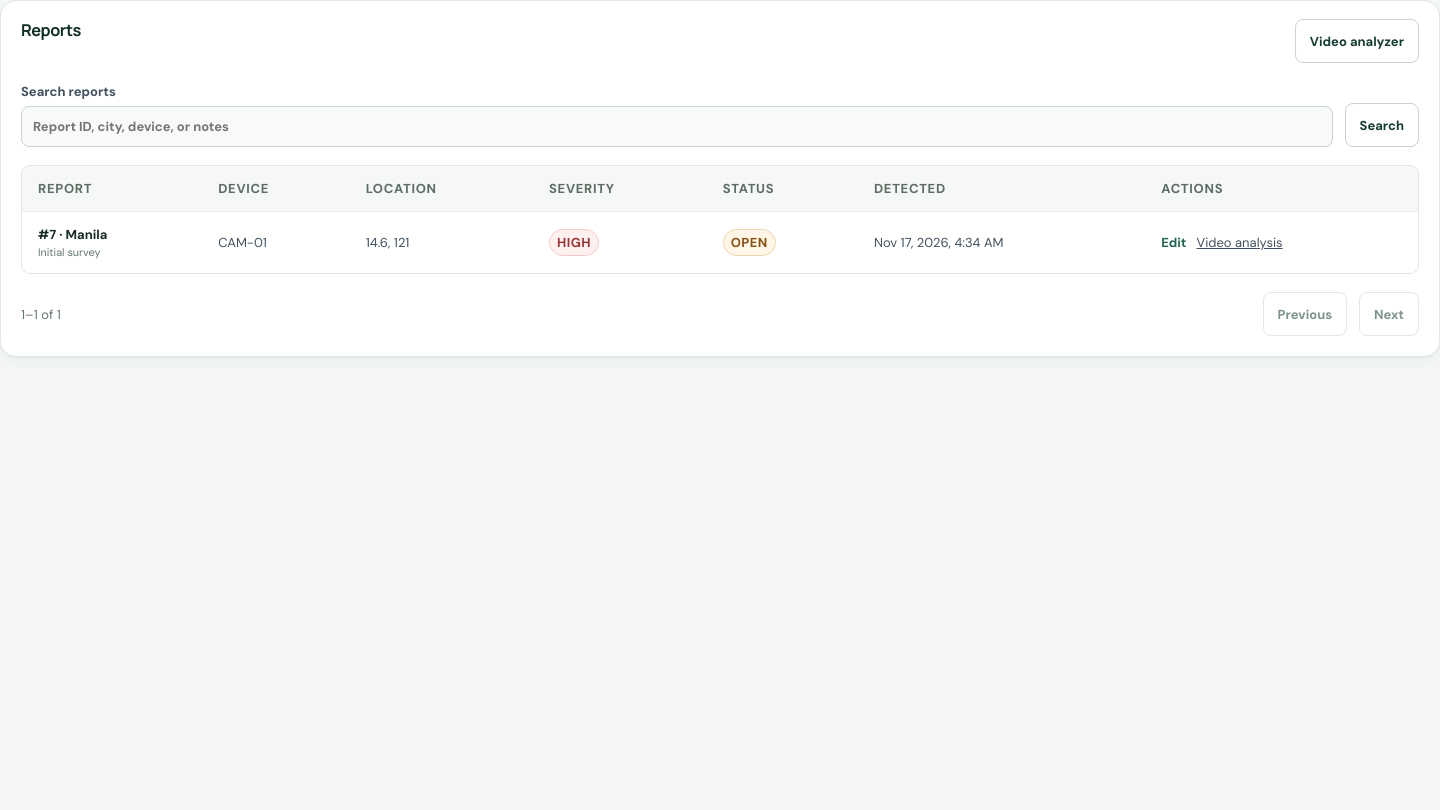
Test: report editing › cancels without writing changes
Step 1. Click the button with aria-label "Edit report #7" → (1174, 242), box left=1161, top=234, right=1186, bottom=251
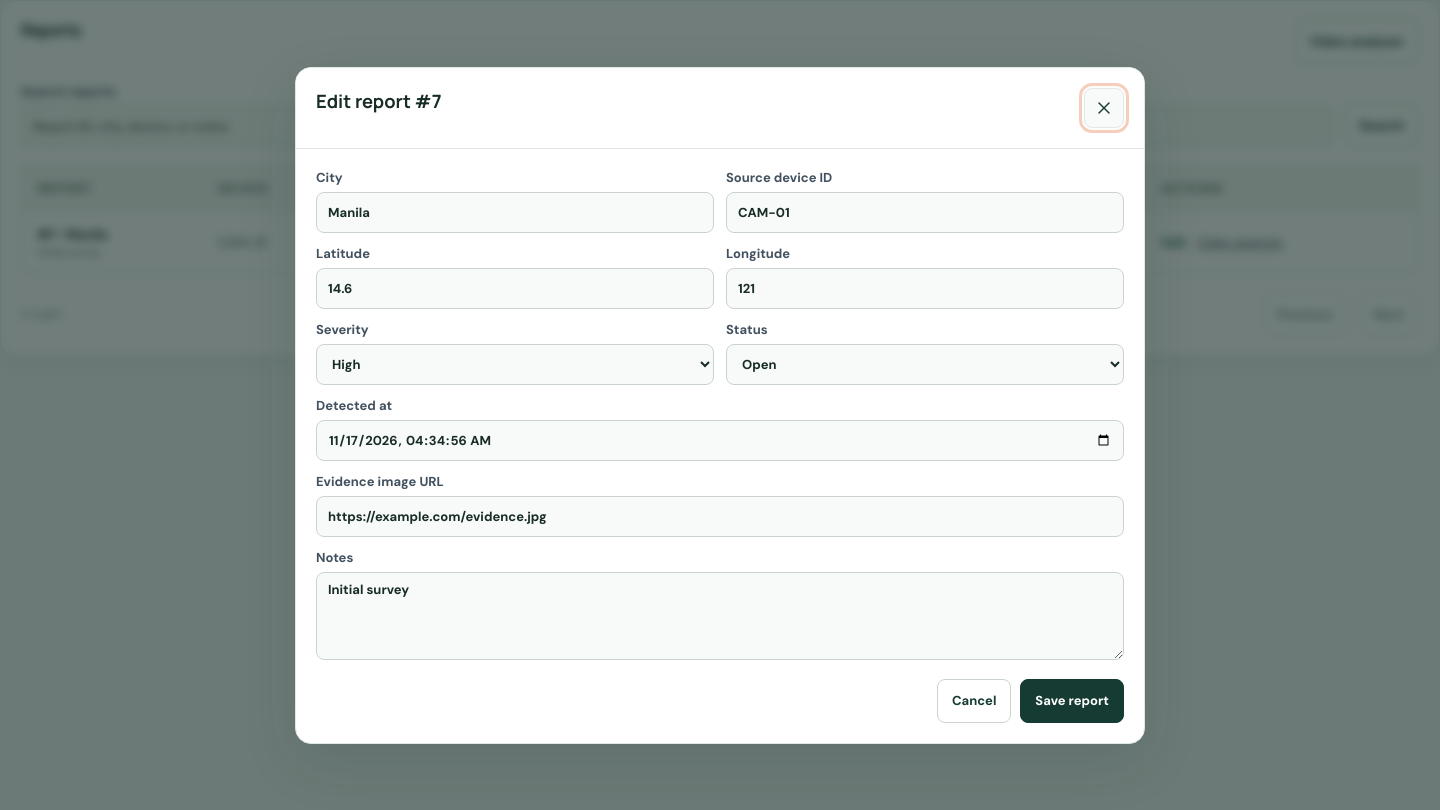
Step 2. Replace the text in the text box labelled "Notes" with "Unsaved" → (720, 616), box left=316, top=572, right=1124, bottom=660
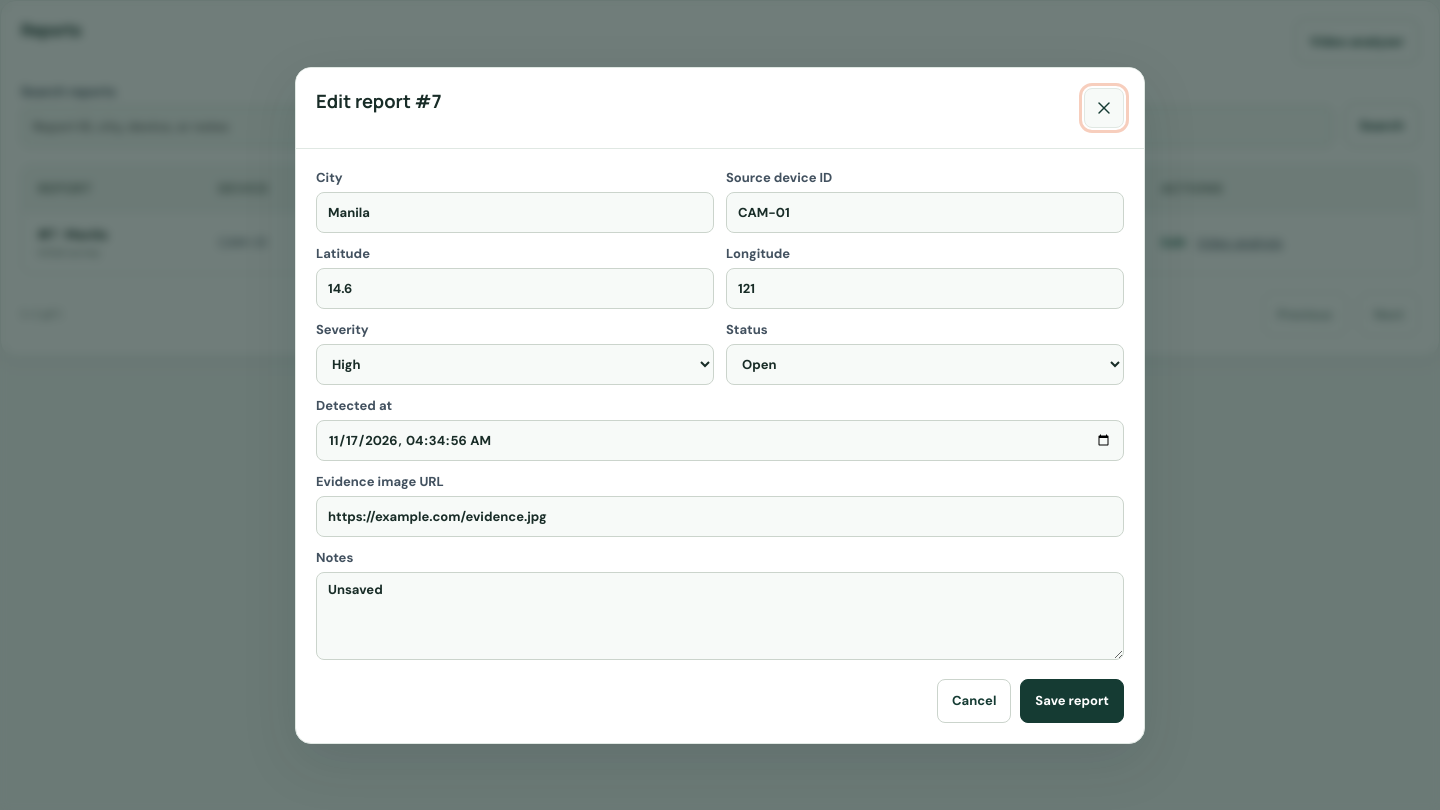
Step 3. Click the button "Cancel" → (974, 700), box left=937, top=678, right=1011, bottom=722
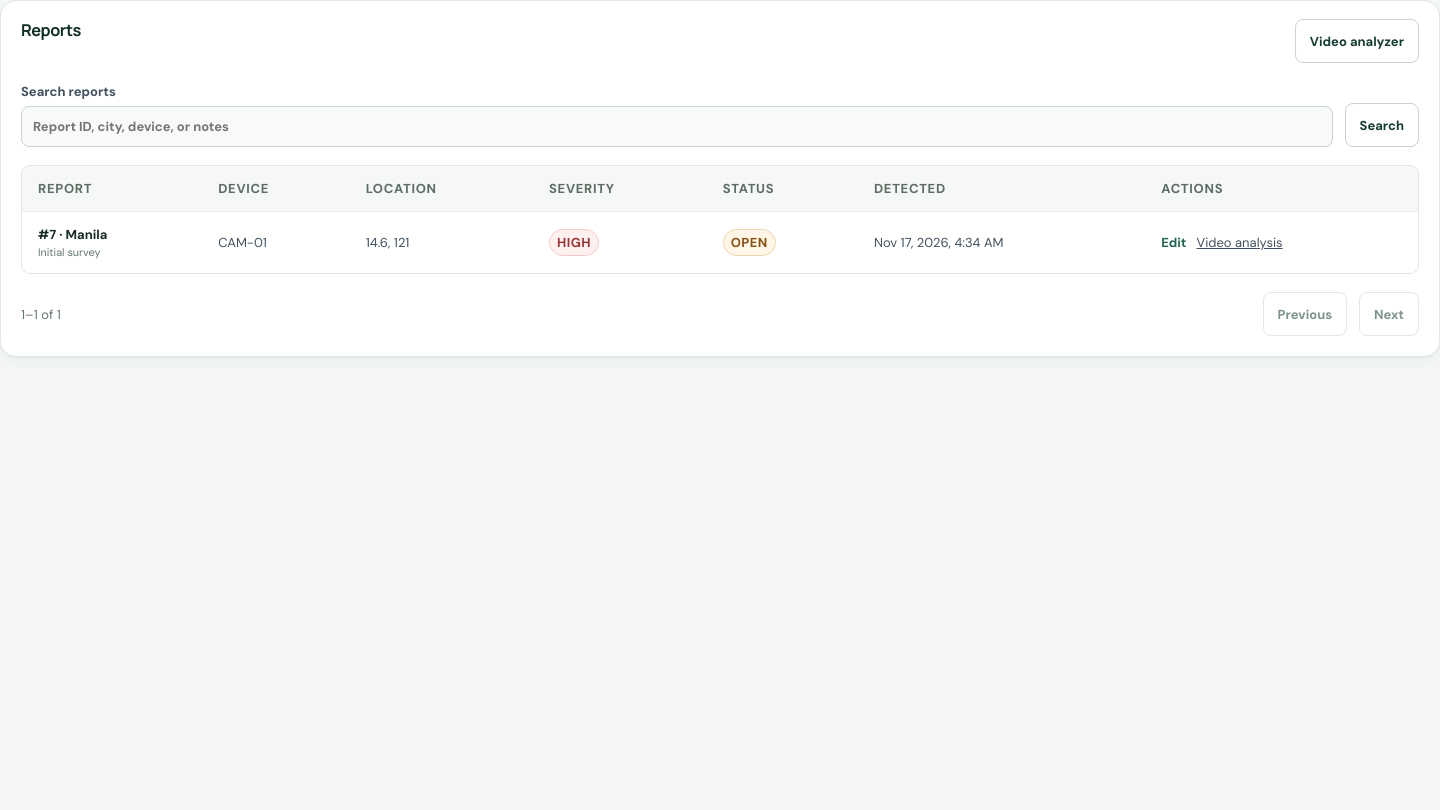
Now the dialog is gone
